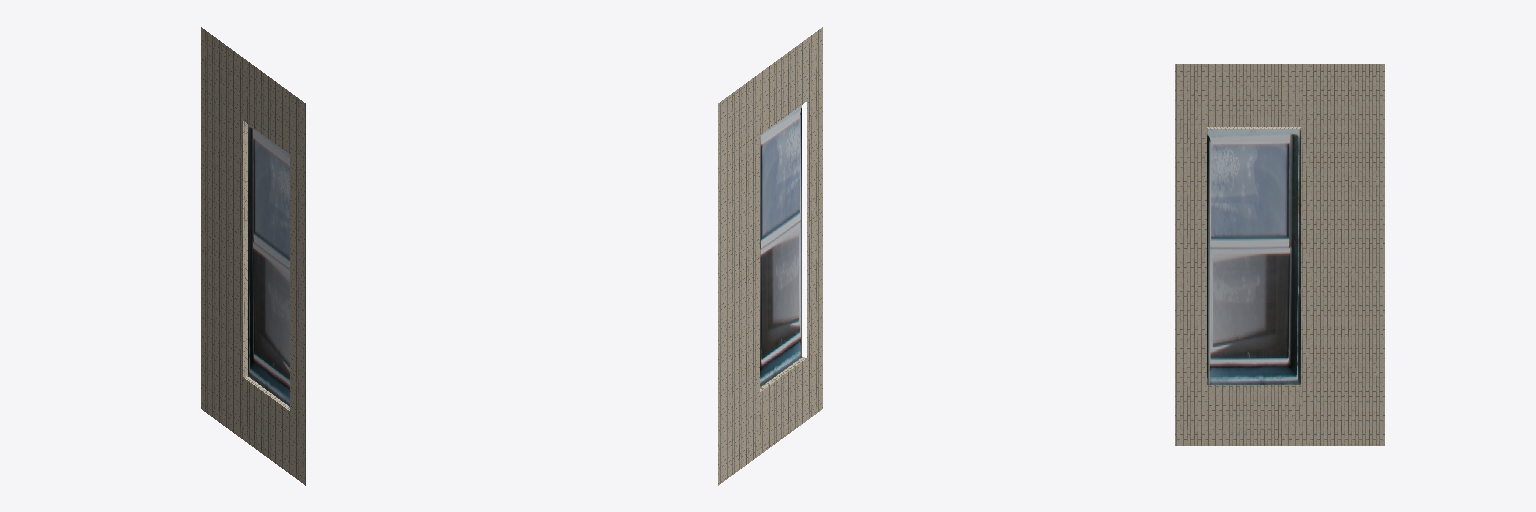
The picture shows the model from 3 angles: view 1: azimuth 30°, elevation 25°; view 2: azimuth 150°, elevation 25°; view 3: azimuth 270°, elevation 25°; orthographic projection.
Visible parts, largest first — view 1: Plane001, Plane002; view 2: Plane001, Plane002; view 3: Plane001, Plane002.
Part boxes in pixels (x1,y1,x2,y2): Plane001: (201,27,305,485); Plane002: (248,124,289,406); Plane001: (718,27,822,485); Plane002: (760,105,801,387); Plane001: (1175,64,1384,445); Plane002: (1207,129,1300,384).
Bounding box in the file's own units: 5 × 402 × 200.
Materials: 2 (2 with a texture image).